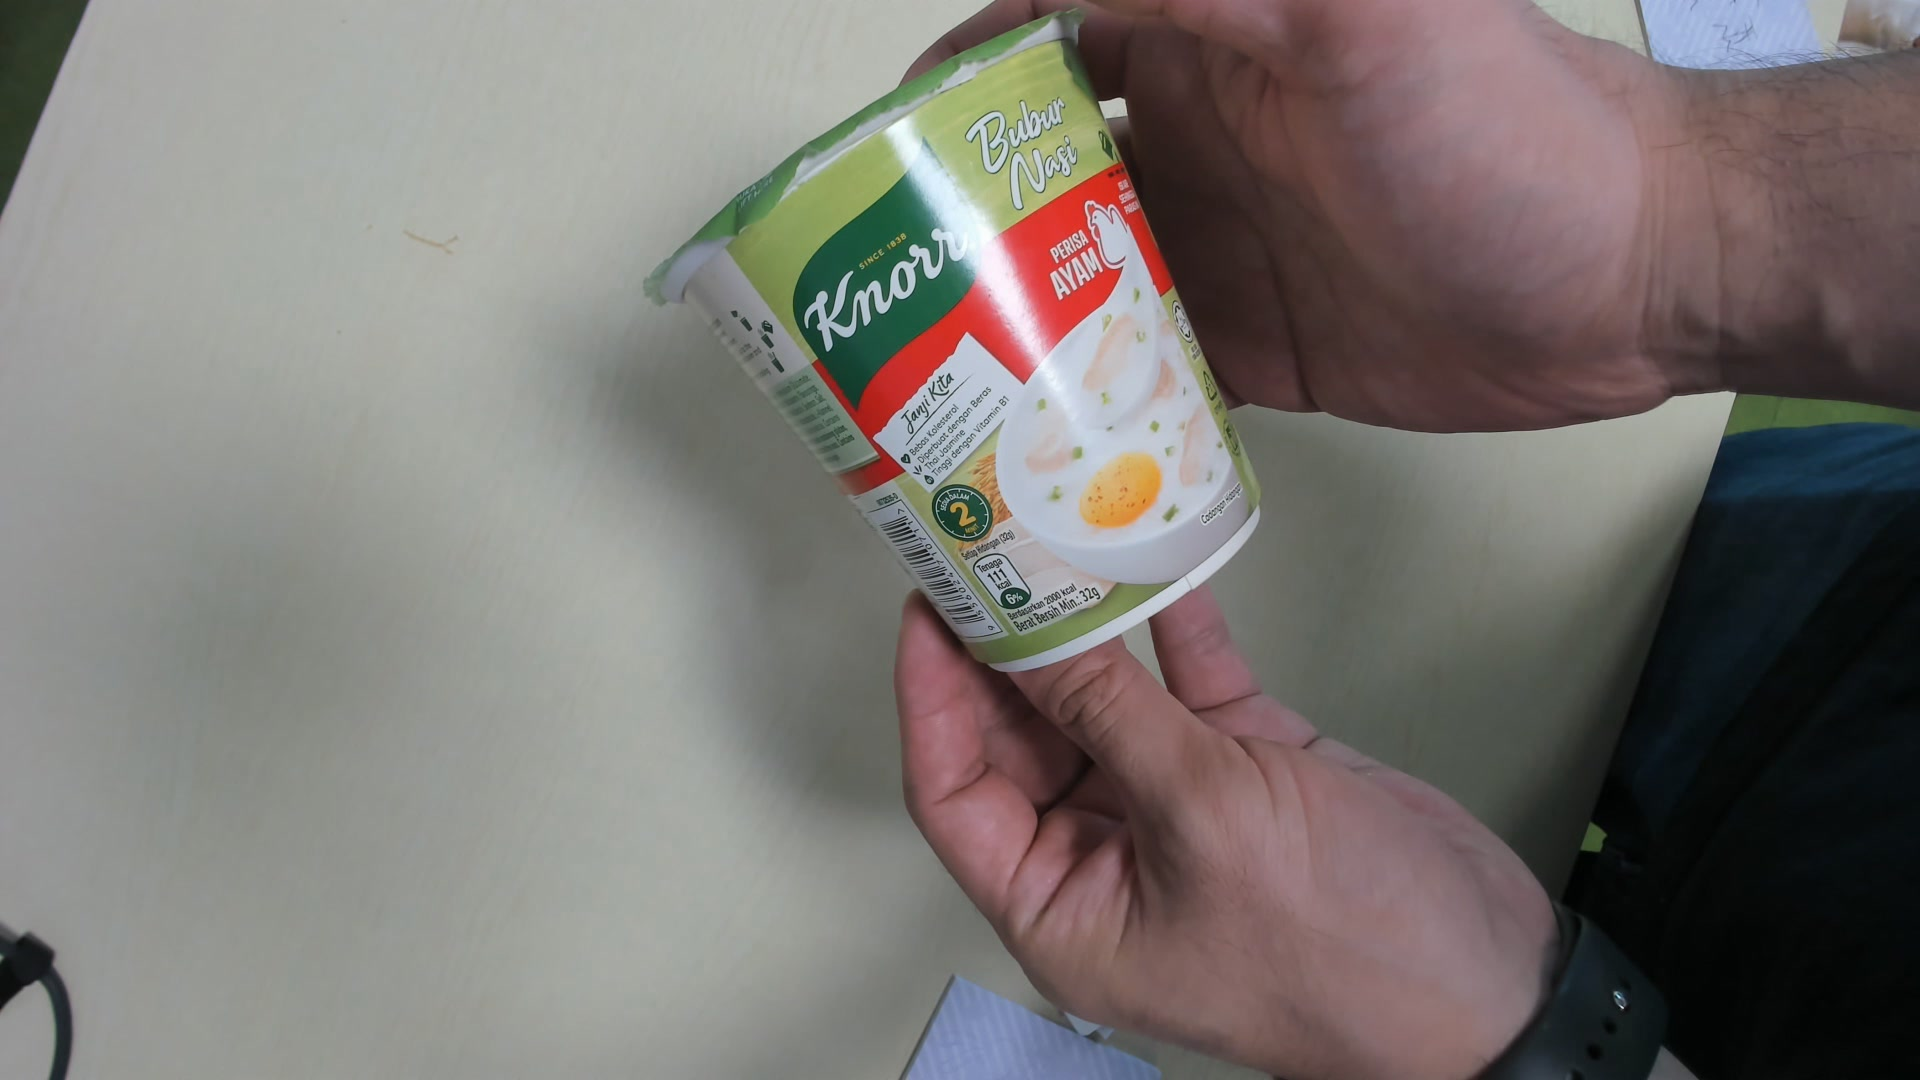InstantMeals_100-199g_Halal_NonHealthy: (630, 8, 1271, 674)
